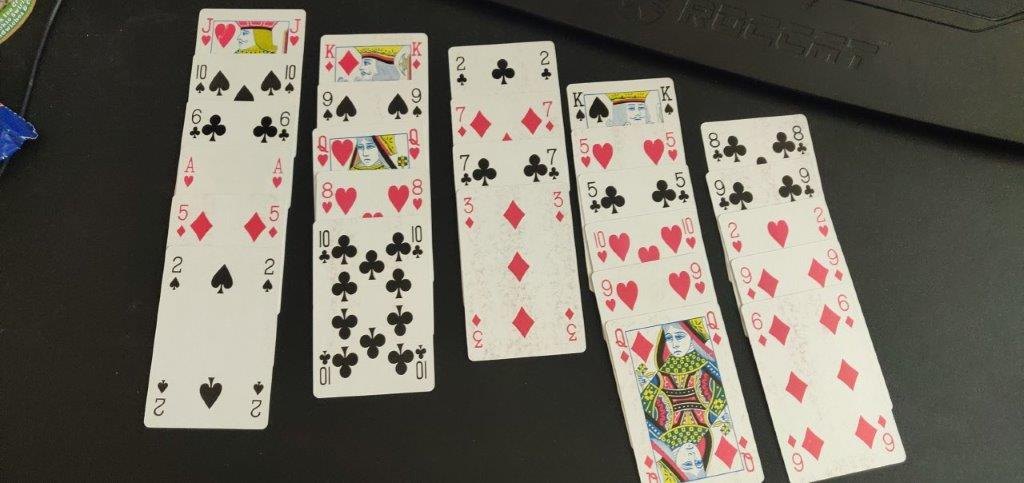10C: (408, 221, 426, 261), (315, 228, 332, 267)
10H: (678, 213, 701, 251), (591, 226, 611, 267)
10S: (193, 57, 210, 99), (282, 59, 297, 98)
2C: (537, 47, 554, 85), (453, 54, 470, 87)
2H: (723, 215, 747, 253)
2S: (168, 252, 185, 294), (263, 255, 277, 295)
3D: (461, 194, 478, 231), (551, 188, 566, 223)
5C: (672, 169, 694, 207), (584, 177, 604, 217)
5D: (266, 201, 282, 243), (175, 198, 191, 239)
5H: (664, 129, 683, 165), (577, 135, 594, 170)
6C: (188, 105, 205, 142), (277, 110, 294, 143)
6D: (747, 308, 773, 353), (836, 290, 859, 333)
7C: (456, 150, 474, 191), (545, 144, 562, 181)
7D: (540, 96, 558, 138), (453, 103, 471, 142)
8C: (706, 129, 727, 163), (789, 123, 810, 156)
8H: (409, 175, 426, 215), (320, 179, 337, 215)
9C: (712, 176, 732, 215), (798, 163, 818, 202)
9D: (823, 244, 846, 285), (738, 262, 761, 302)
9H: (598, 276, 622, 317), (688, 255, 711, 297)
9S: (320, 88, 337, 124), (408, 84, 425, 119)
AH: (268, 153, 287, 191), (181, 154, 200, 189)
JH: (198, 15, 217, 48), (286, 16, 304, 50)
KD: (409, 39, 426, 74), (322, 41, 339, 74)
KS: (656, 81, 678, 119), (570, 89, 588, 122)
QD: (610, 324, 632, 368), (704, 307, 726, 351)
QH: (315, 131, 333, 173), (407, 125, 424, 163)
